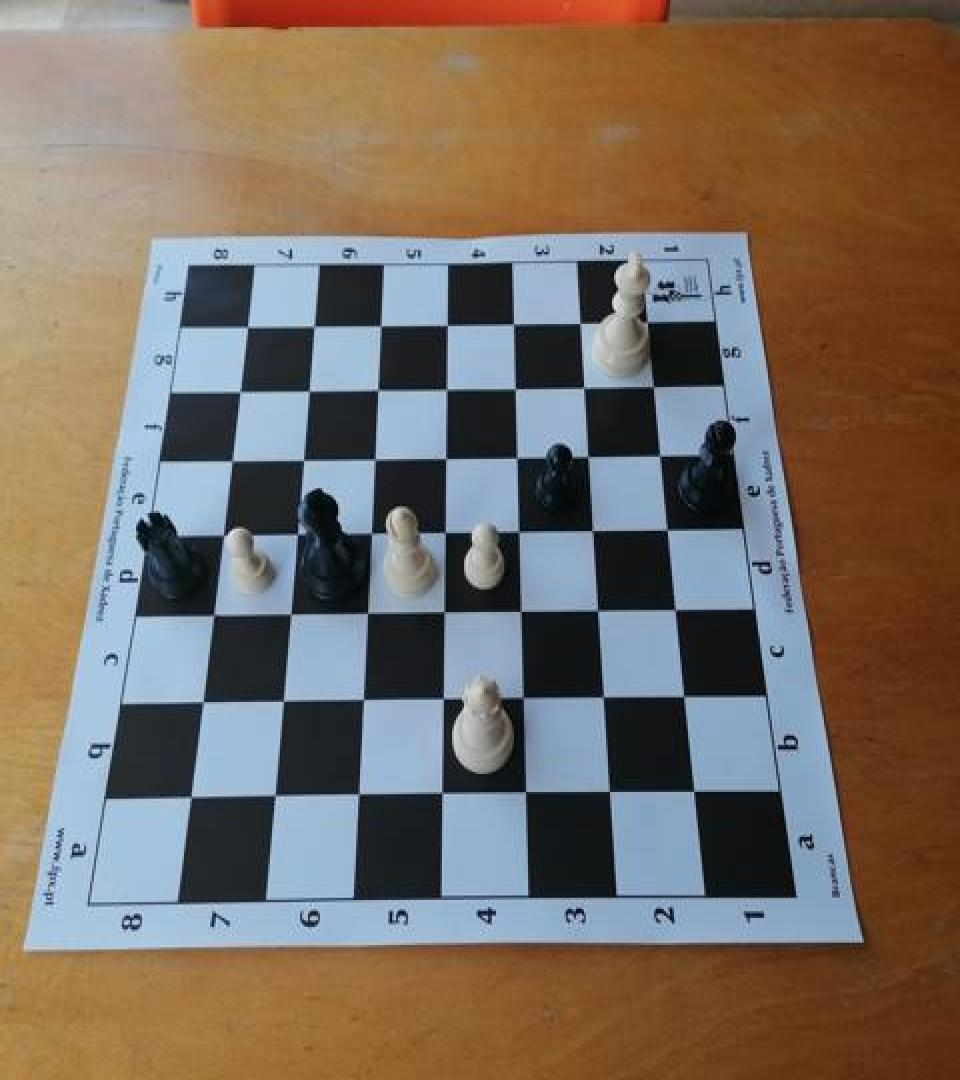xcorner: (176, 782, 206, 816), (260, 782, 290, 816), (344, 780, 374, 814), (428, 780, 458, 814), (512, 780, 542, 814), (597, 780, 627, 814), (681, 780, 711, 814), (187, 686, 217, 720), (268, 686, 298, 720), (349, 686, 379, 720), (429, 685, 459, 719), (510, 685, 540, 719), (591, 684, 621, 718), (671, 684, 701, 718), (197, 598, 227, 632), (275, 598, 305, 632), (353, 598, 383, 632), (430, 597, 460, 631), (508, 597, 538, 631), (586, 597, 616, 631), (663, 596, 693, 630), (207, 518, 237, 552), (282, 518, 312, 552), (357, 516, 387, 550), (431, 516, 461, 550), (506, 516, 536, 550), (581, 515, 611, 549), (655, 515, 685, 549), (216, 442, 246, 476), (288, 442, 318, 476), (360, 442, 390, 476), (432, 441, 462, 475), (504, 441, 534, 475), (576, 441, 606, 475), (648, 440, 678, 474), (225, 372, 255, 406), (294, 372, 324, 406), (364, 371, 394, 405), (433, 371, 463, 405), (503, 371, 533, 405), (572, 370, 602, 404), (641, 370, 671, 404), (232, 307, 262, 341), (300, 307, 330, 341), (367, 306, 397, 340), (434, 306, 464, 340), (501, 306, 531, 340), (568, 306, 598, 340), (635, 305, 665, 339)
